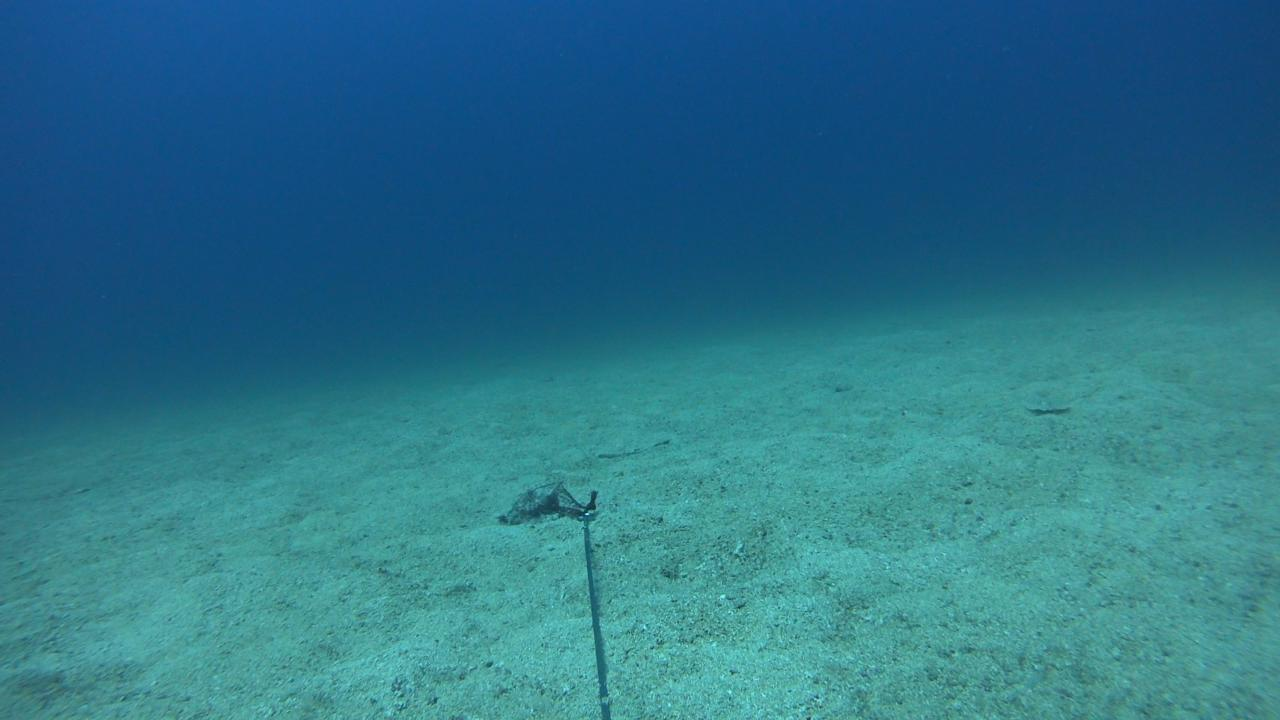bothus: (1016, 385, 1073, 419)
